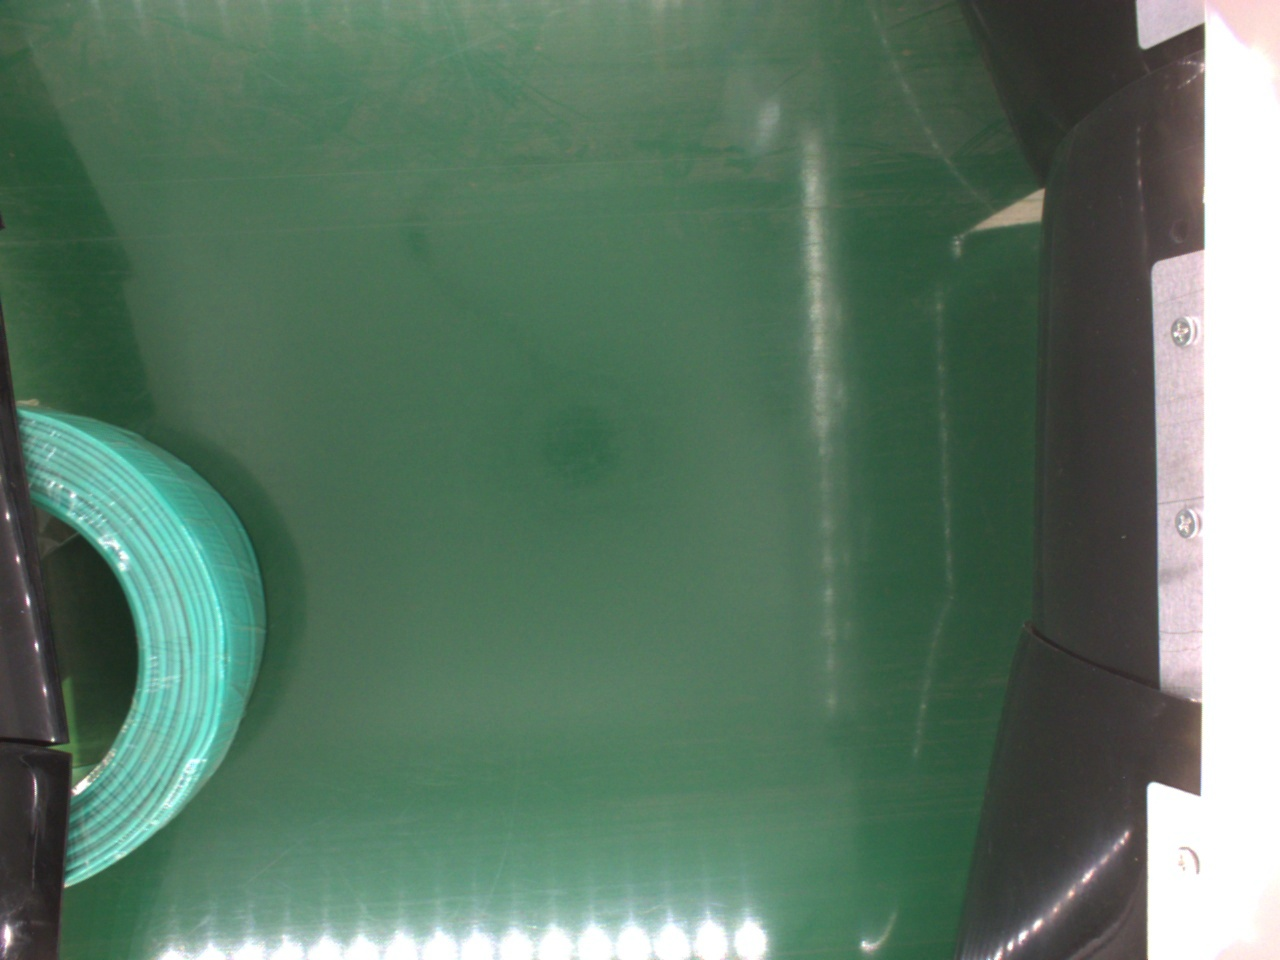green: (18, 399, 261, 895)
